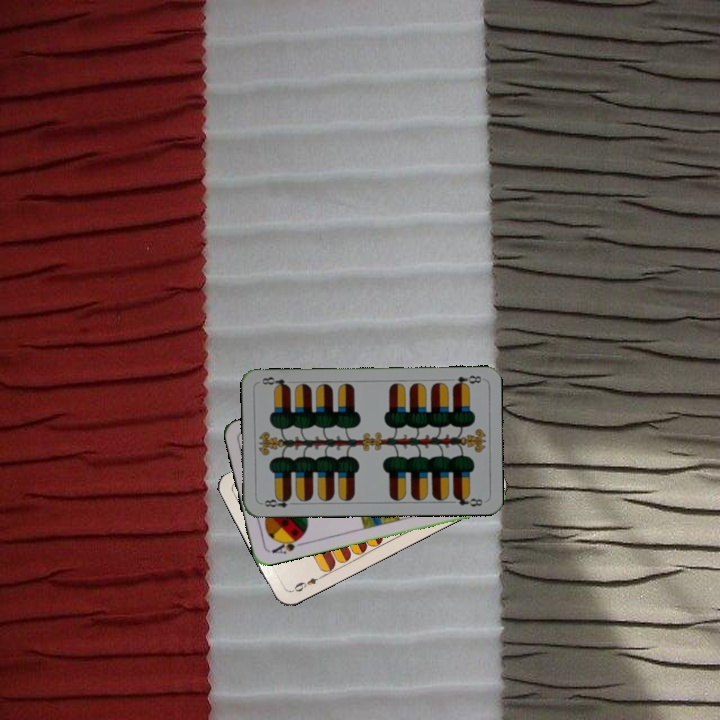E8: (257, 493, 298, 510), (449, 371, 484, 390)
E9: (287, 572, 325, 595)
SA: (268, 532, 307, 557)
